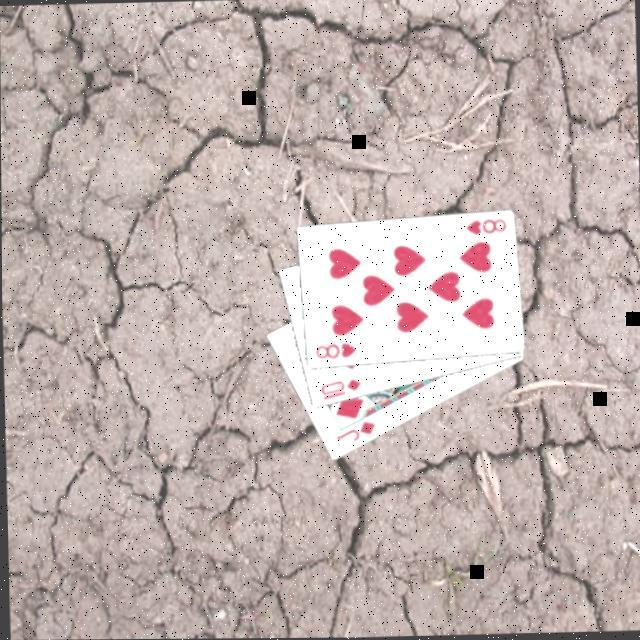10D: (318, 377, 364, 405)
8H: (312, 342, 360, 365), (464, 218, 510, 240)
JD: (333, 420, 379, 448)
